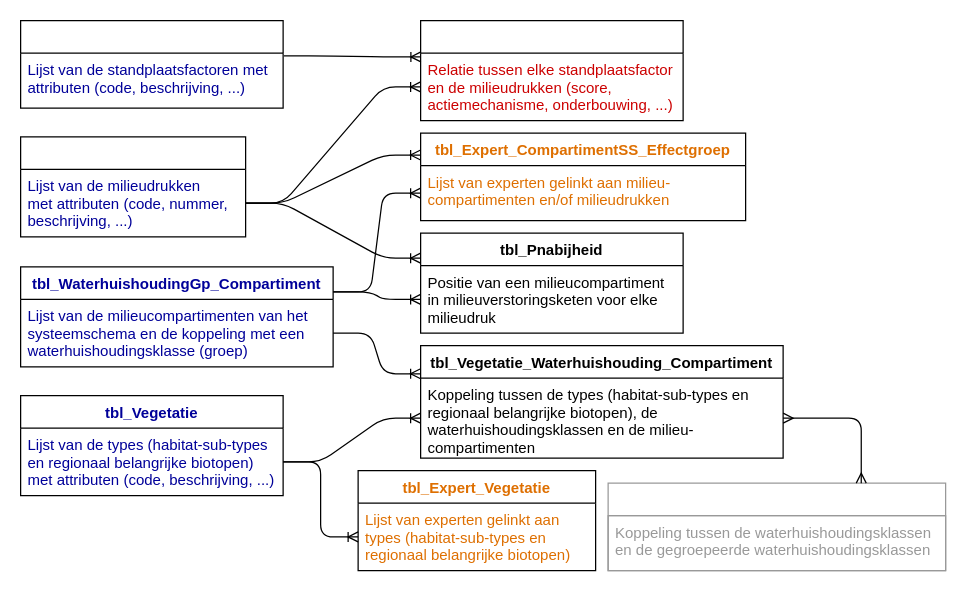
Some shapes in this 966 by 591 pixel diagram are drawn without their labels. The shapes that lost their labels are listed below. From the top down, each one's box as (x1, y1, x2, y2) in pixels, then its label:
(19, 19, 283, 108): tbl_Standplaatsfactor_Label
(419, 19, 683, 121): tbl_Effectgroep_Standplaatsfactor
(19, 136, 246, 237): tbl_Effectgroep
(607, 482, 946, 571): tbl_WaterhuishoudingGp_Waterhuishouding
